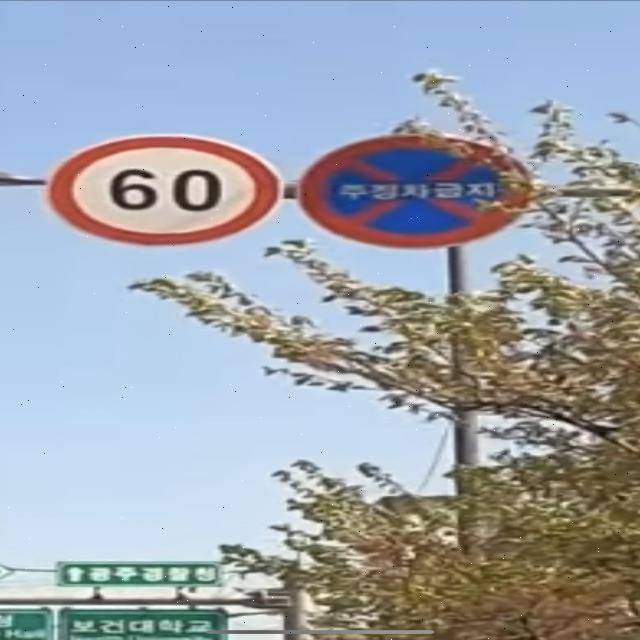speed limit 60: (46, 133, 281, 247)
